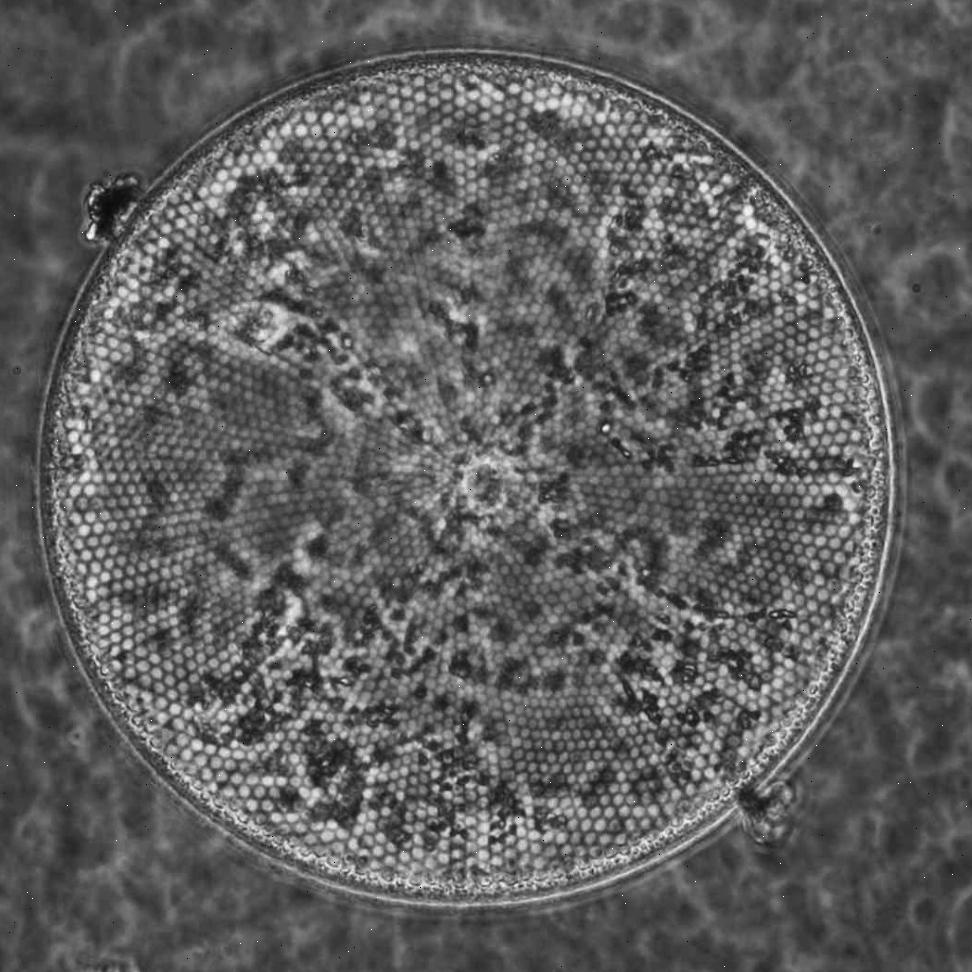coscinodiscus_oculus_iridis: (40, 47, 894, 909)
